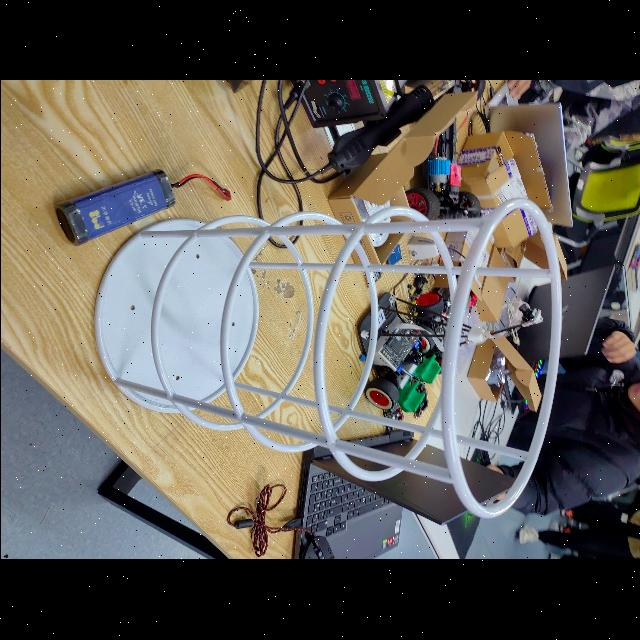S: (87, 191, 565, 527)
